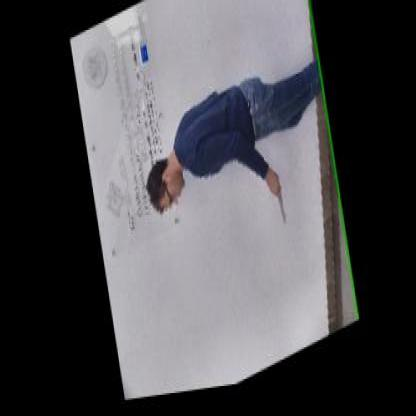knife: (268, 175, 286, 236)
